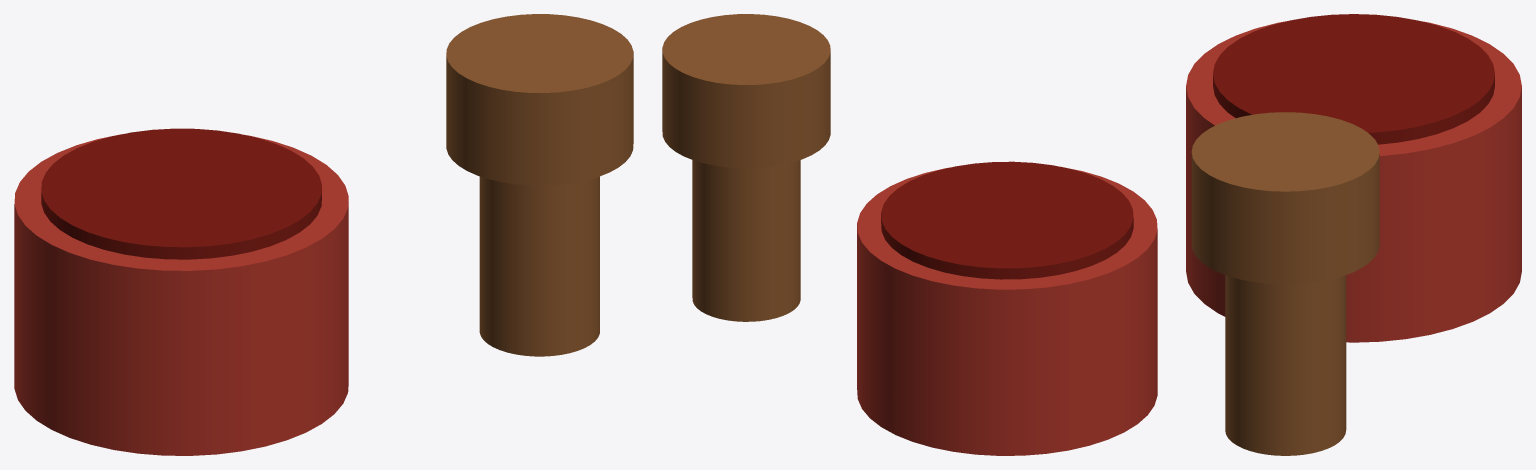
Rendered from ConDau_HopMuc.glb.
The picture shows the model from 3 angles, left to right: view 1: azimuth 30°, elevation 25°; view 2: azimuth 150°, elevation 25°; view 3: azimuth 270°, elevation 25°; orthographic projection. The views are drawn at different scales.
Parts seen in each view (by area): view 1: ConDau_HopMuc; view 2: ConDau_HopMuc; view 3: ConDau_HopMuc.
Part boxes in pixels (x1,y1,x2,y2): ConDau_HopMuc: [14, 14, 633, 455]; ConDau_HopMuc: [662, 14, 1157, 455]; ConDau_HopMuc: [1186, 14, 1521, 455].
Bounding box in the file's own units: 0.1867 × 0.09 × 0.0984.
